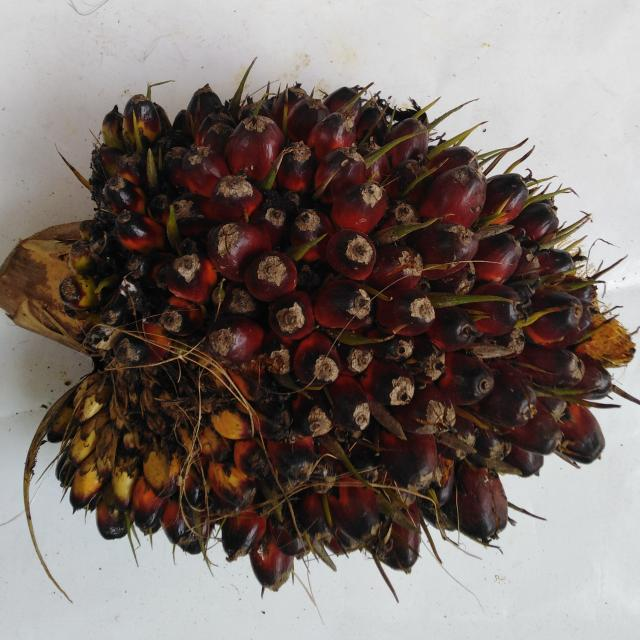FFB: (60, 93, 632, 586)
